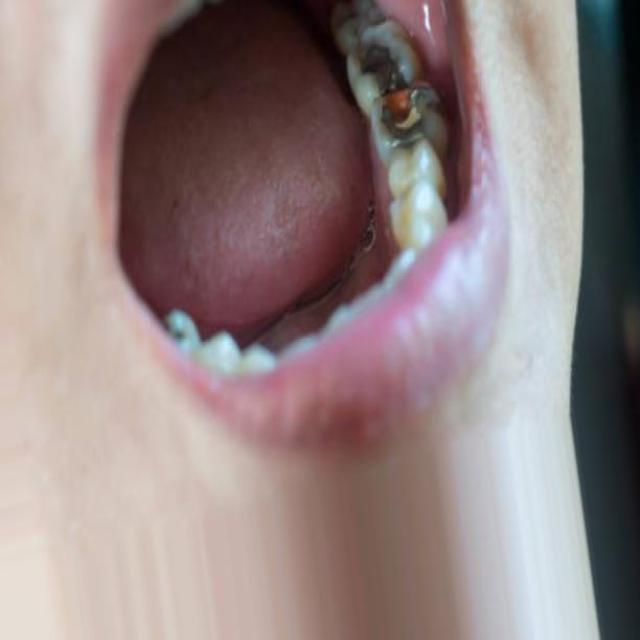caries: (370, 75, 447, 158), (348, 28, 429, 92)
